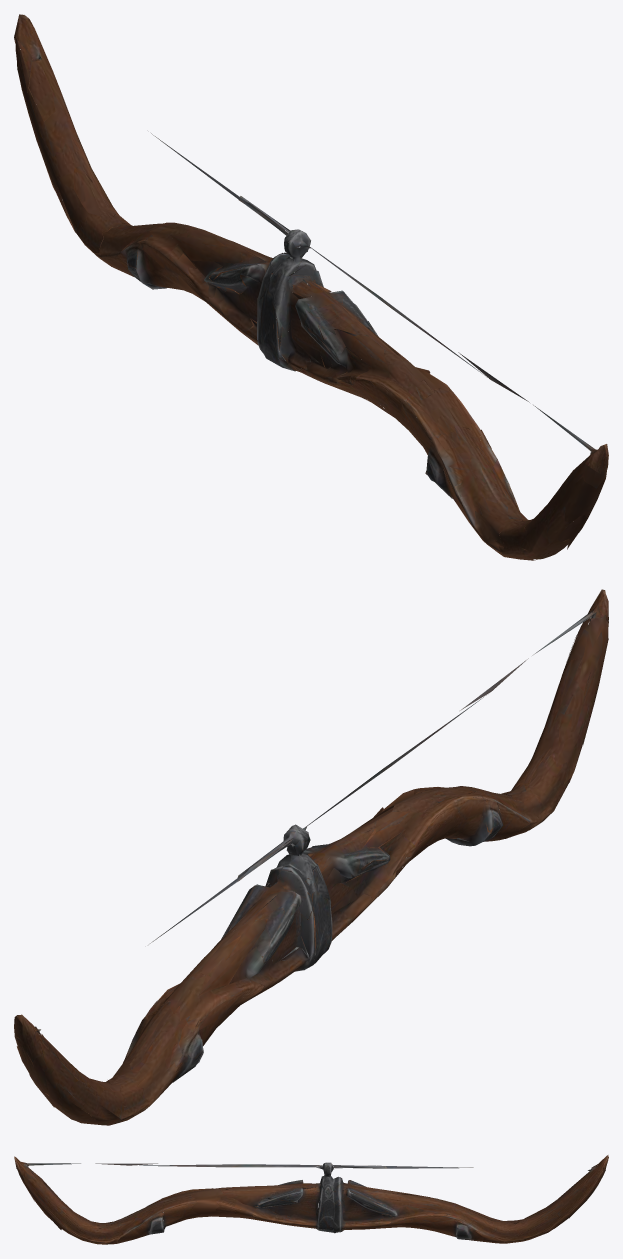
The model's file is stalker_weapon_1.glb.
The picture shows the model from 3 angles, top to bottom: view 1: azimuth 30°, elevation 25°; view 2: azimuth 150°, elevation 25°; view 3: azimuth 270°, elevation 25°; orthographic projection. The views are drawn at different scales.
Parts seen in each view (by area): view 1: stalker_weapon_1; view 2: stalker_weapon_1; view 3: stalker_weapon_1.
Boxes of the visible parts, bbox=[...] form: stalker_weapon_1: bbox=[14, 14, 608, 560]; stalker_weapon_1: bbox=[14, 589, 608, 1125]; stalker_weapon_1: bbox=[14, 1155, 608, 1244].
Size of the model in its own units: 0.0721 by 0.1997 by 1.2.
Materials: 1 (1 with a texture image).
